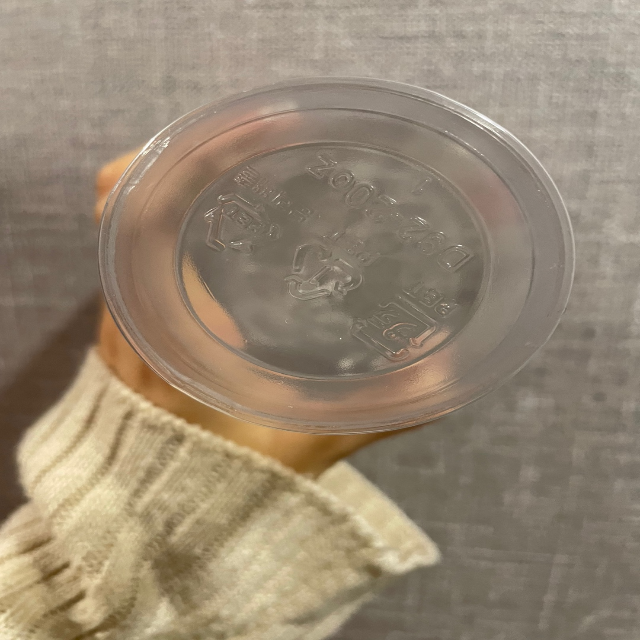pet: (199, 160, 317, 260), (358, 284, 461, 365), (283, 232, 380, 309)
